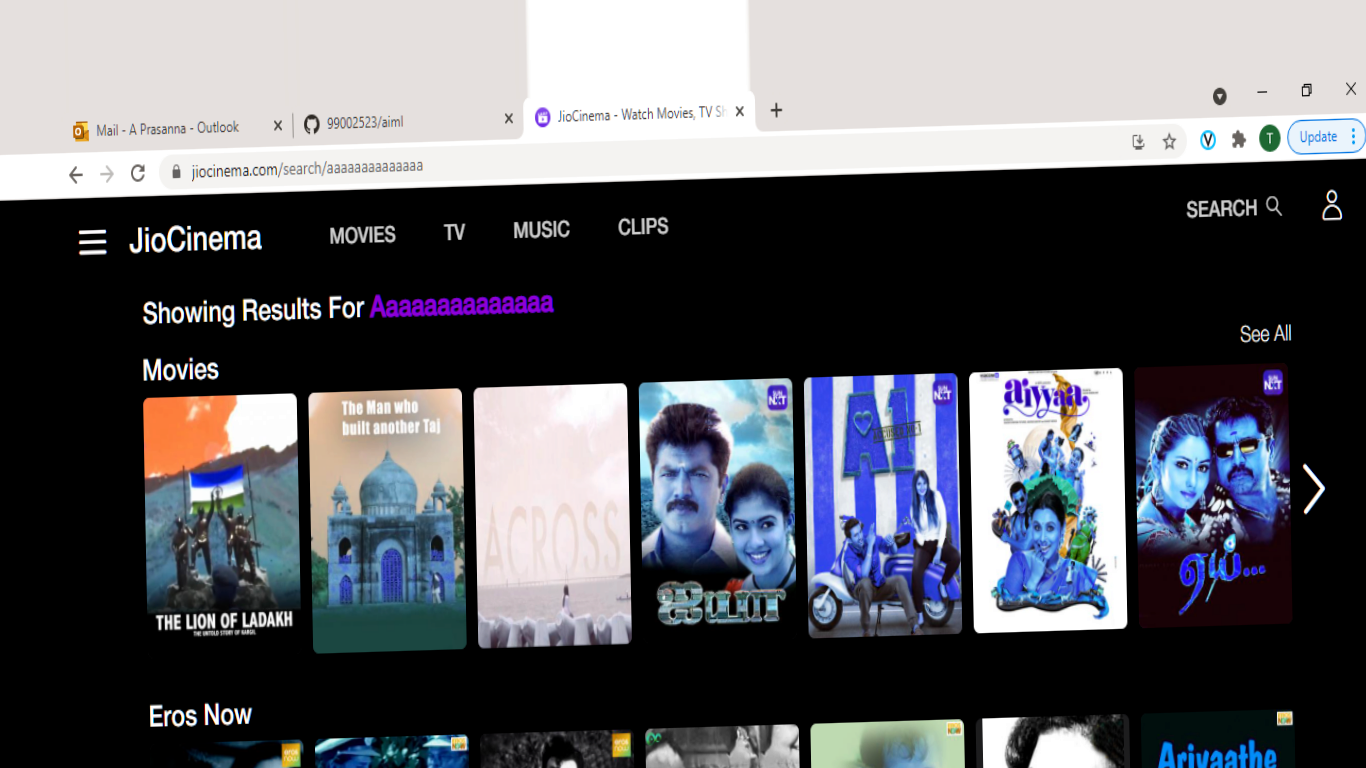noresultsfound: (137, 271, 563, 327)
profileicon: (1308, 183, 1353, 238)
searchicon: (1171, 189, 1288, 238)
